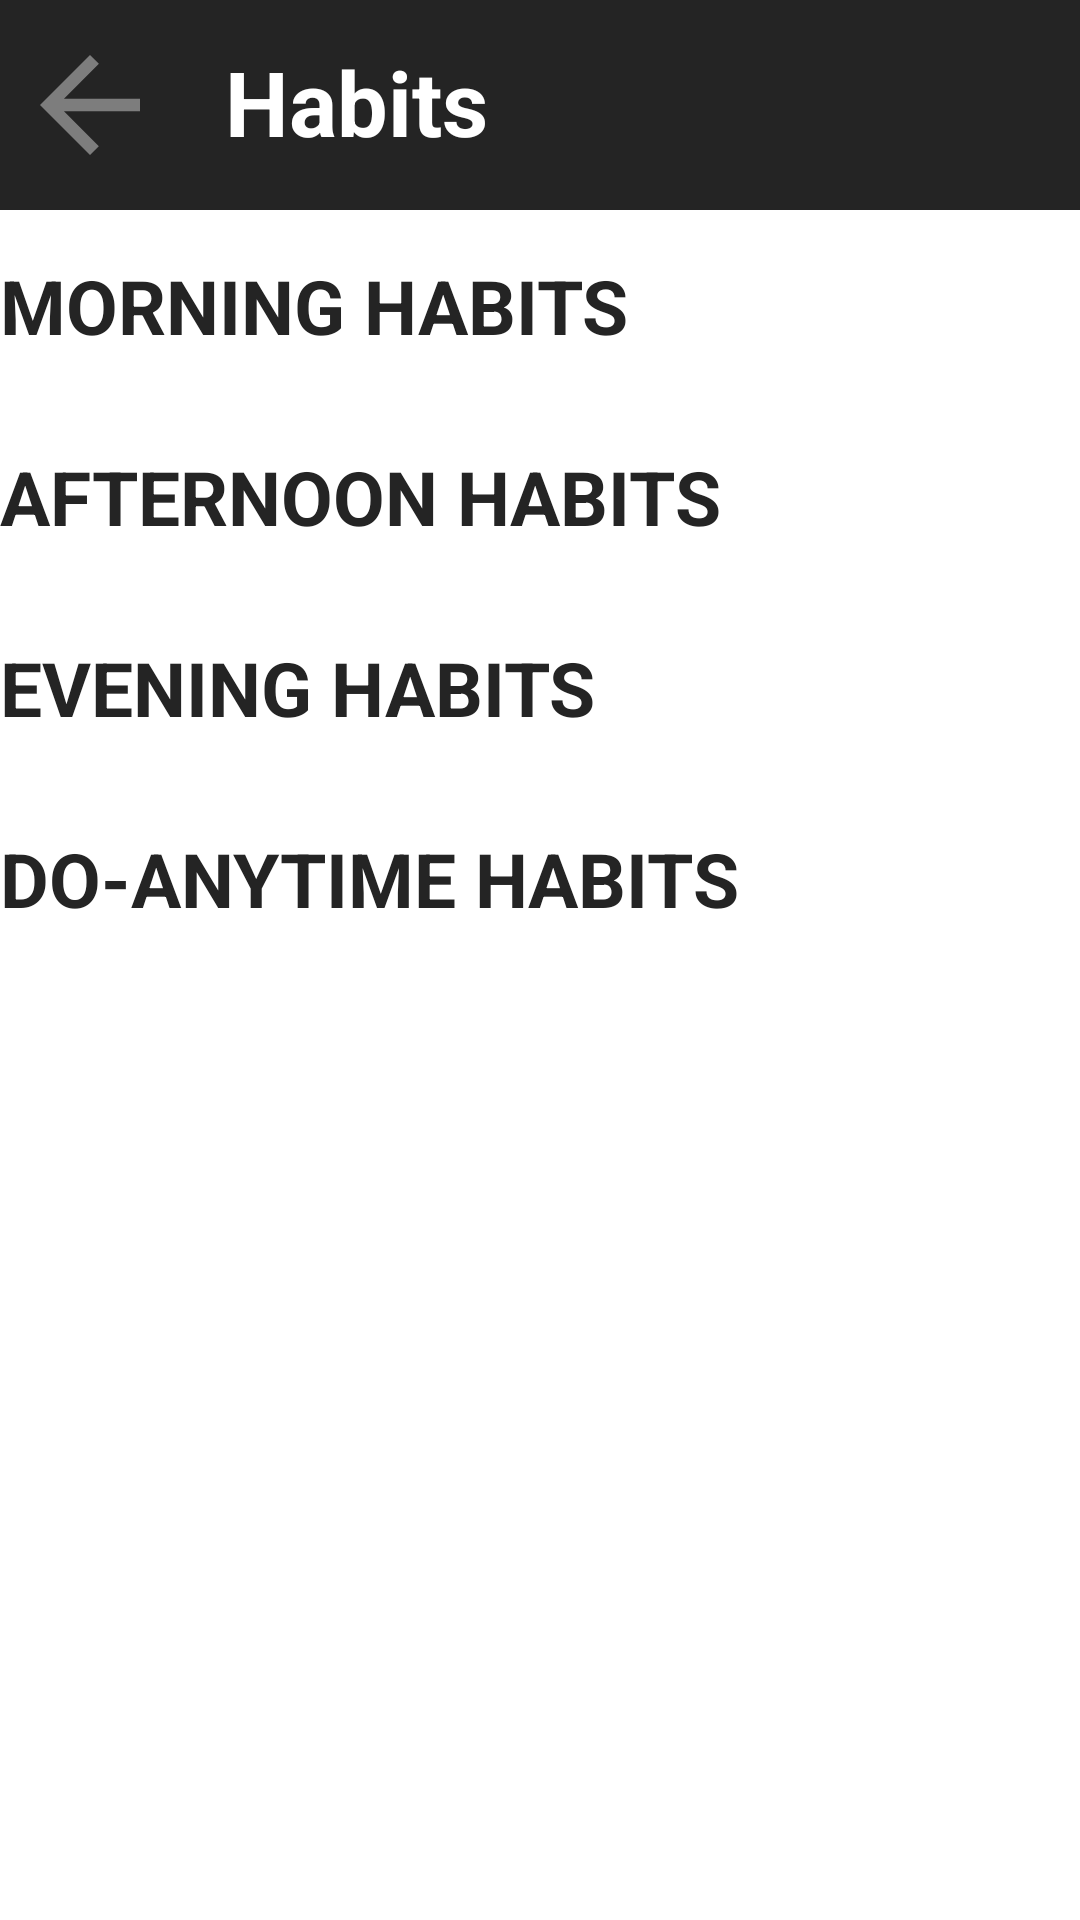

Named icons in this screenshot (1080w x 1920h) and their bounding boxes, (x1, y1, x2, y2):
arrow back: (40, 55, 140, 155)
